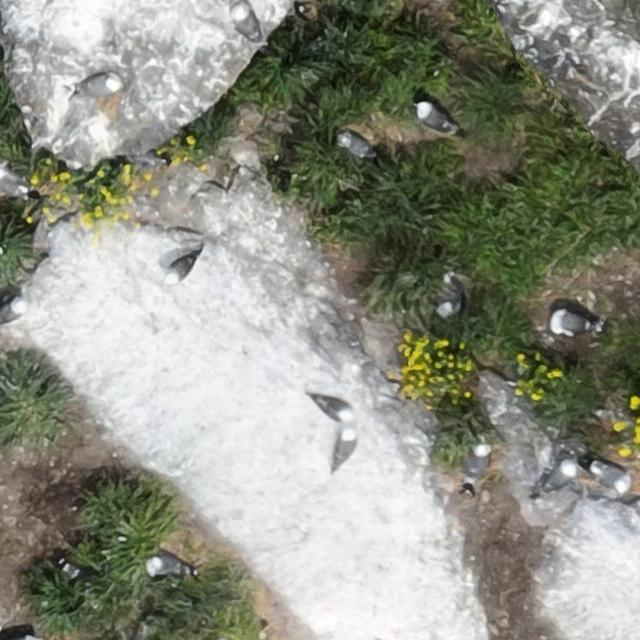umineko: (435, 266, 463, 320), (330, 426, 356, 478), (230, 2, 262, 44), (418, 105, 452, 133), (553, 311, 594, 332), (596, 465, 631, 489), (316, 397, 352, 419), (339, 134, 372, 157), (468, 443, 490, 477), (80, 76, 117, 96), (4, 298, 26, 330), (549, 462, 576, 488), (149, 556, 184, 574), (167, 258, 193, 281)
